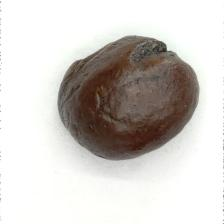NG: (125, 34, 176, 69)
